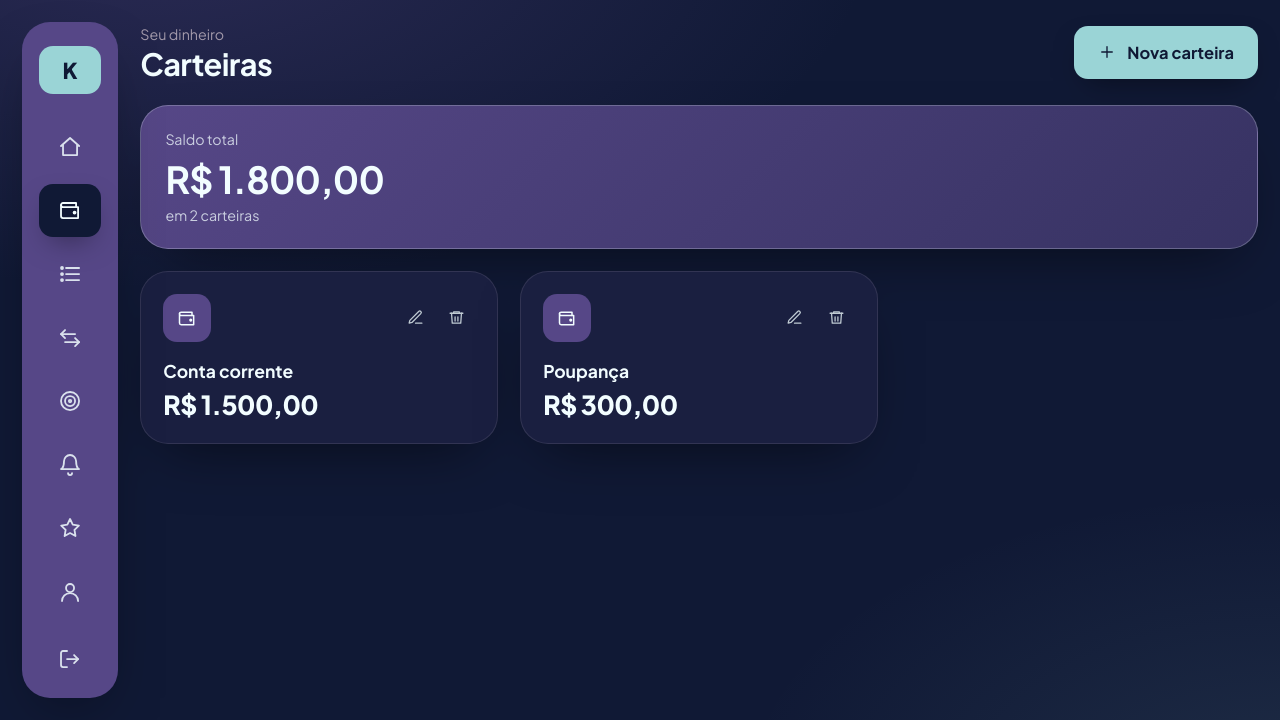
carteiras › renomeia uma carteira
Check: the text "Conta corrente" is shown, box [163,360,293,382]
Click the button named "Renomear Conta corrente" at (415, 318), box [396,299,434,337]
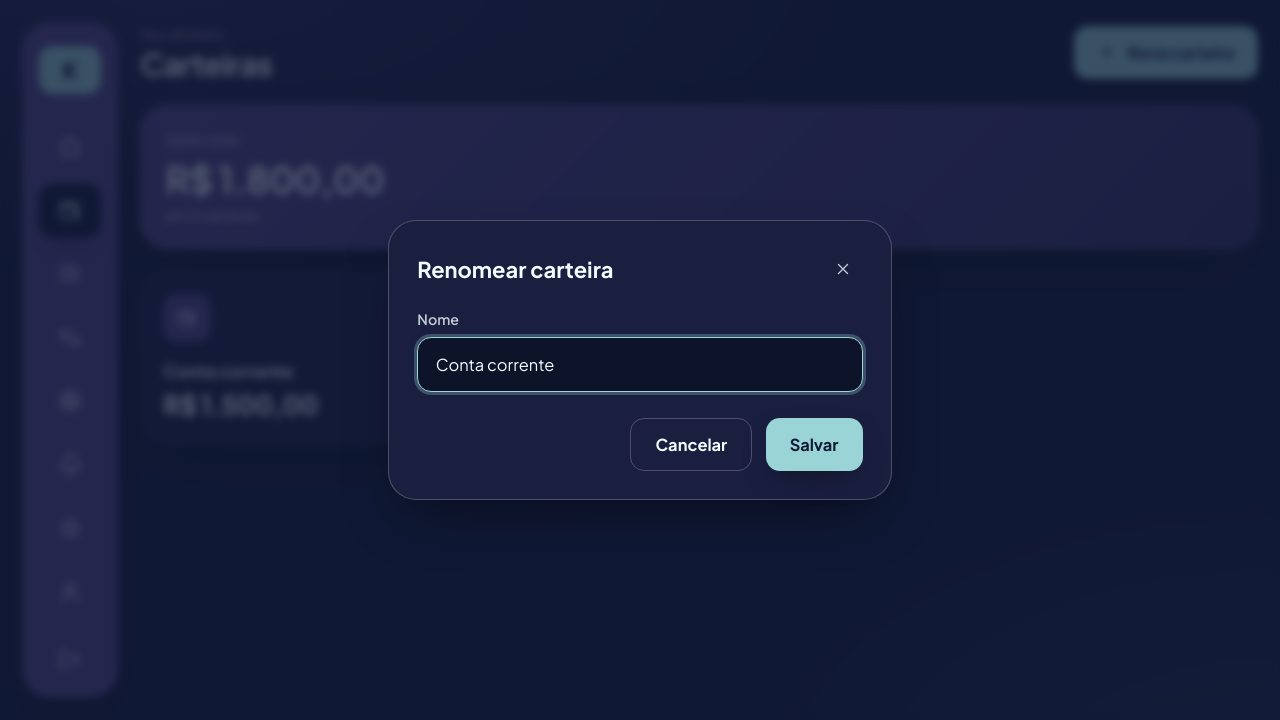
Replace the text in the field labelled "Nome" with "Conta principal" at (640, 365), box [434,338,846,391]
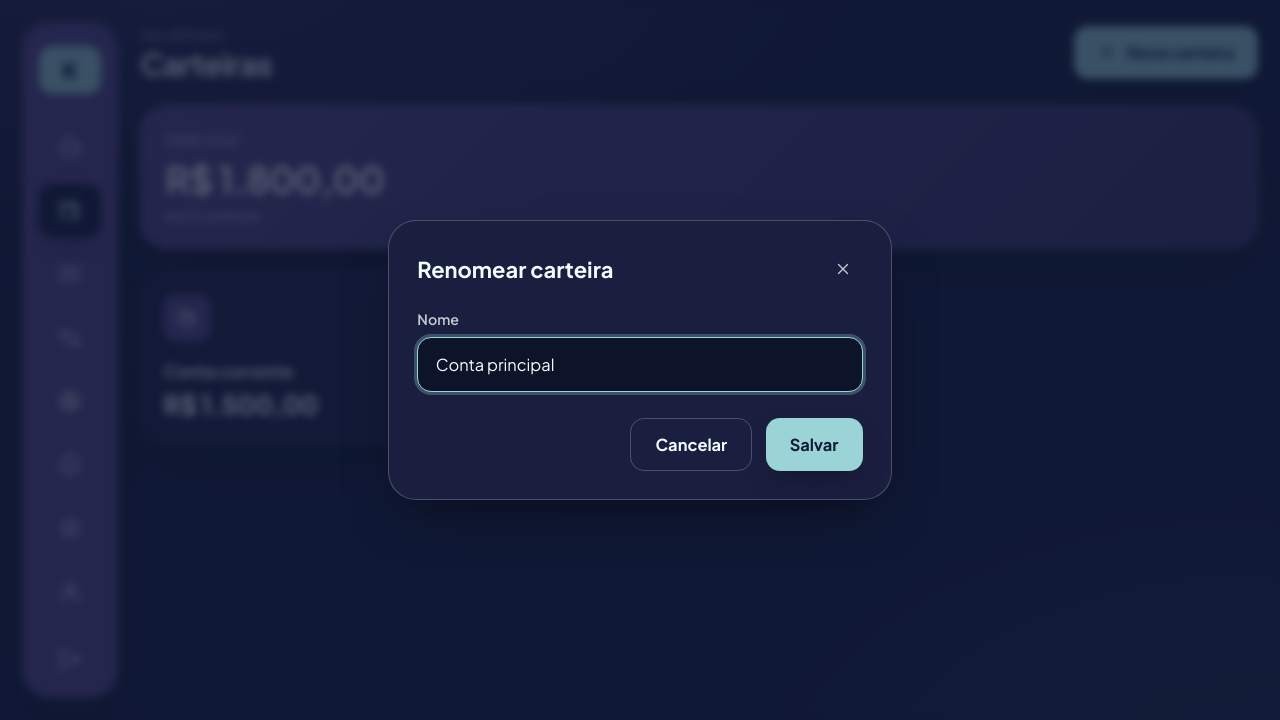
Click the button "Salvar" at (814, 445), box [766,418,863,471]
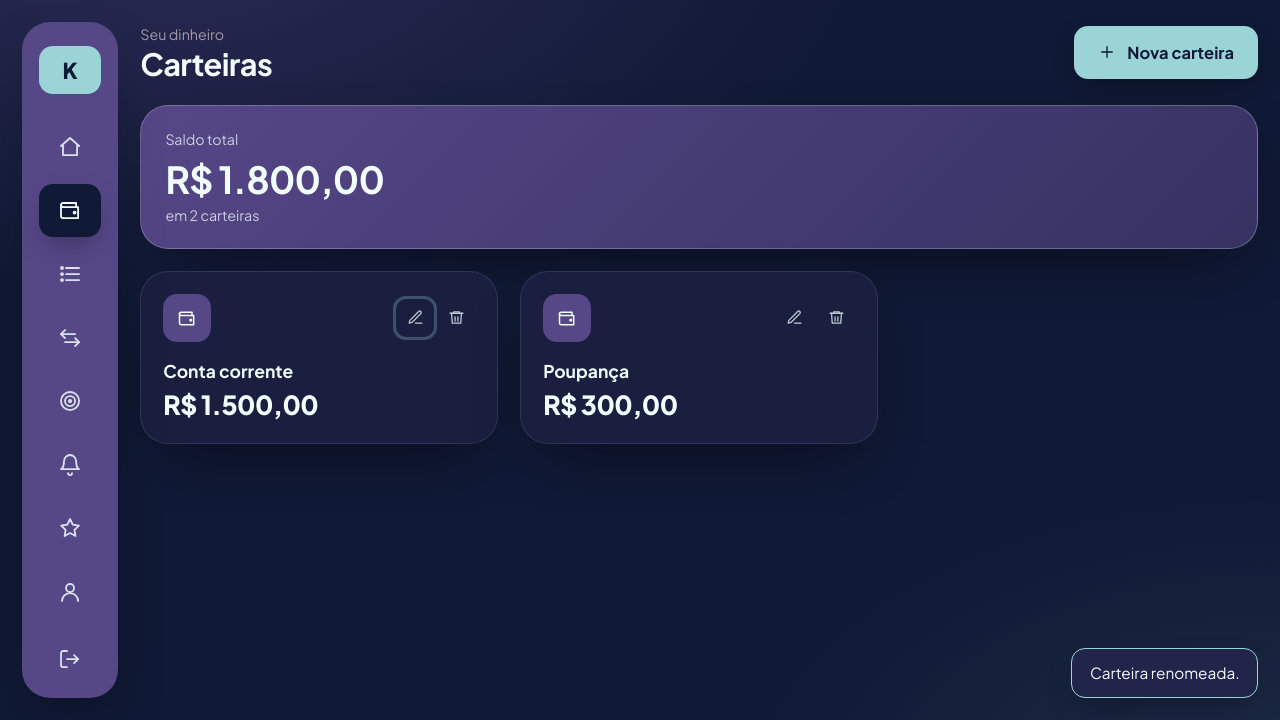
Check: the text "Carteira renomeada." is shown, box [1071,648,1258,698]
